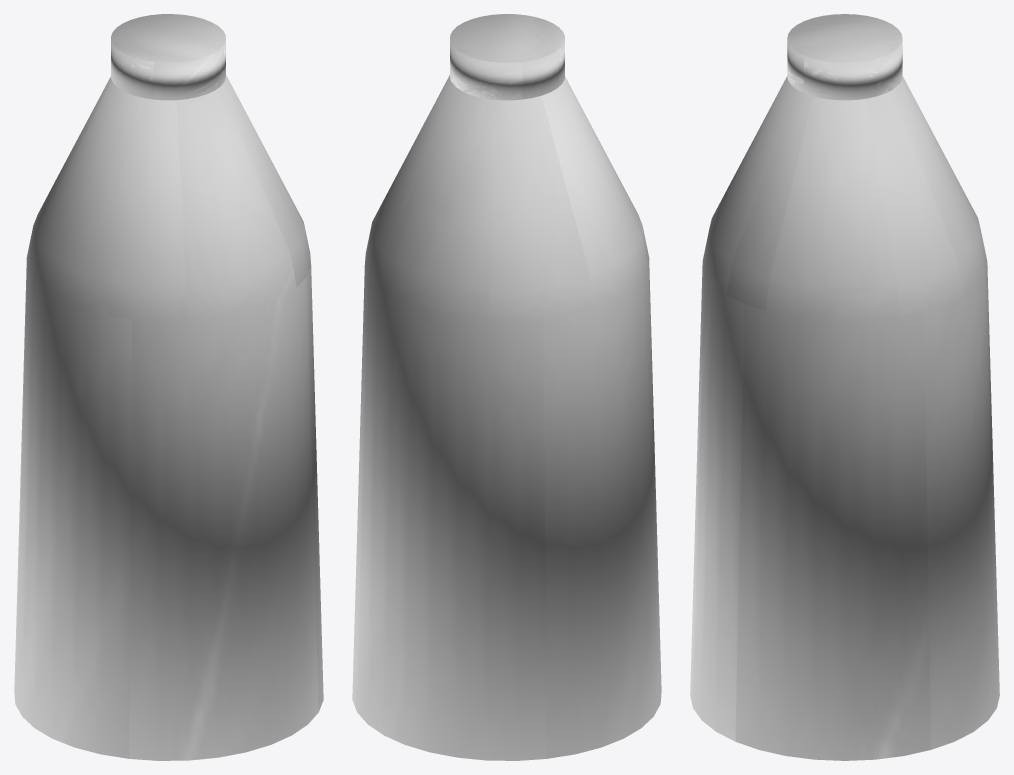
The model's file is waterbottle.fbx.
3 renders of one model, left to right at view 1: azimuth 30°, elevation 25°; view 2: azimuth 150°, elevation 25°; view 3: azimuth 270°, elevation 25°, orthographic.
Parts seen in each view (by area): view 1: Cylinder_001; view 2: Cylinder_001; view 3: Cylinder_001.
Part boxes in pixels (left/top/right/bottom): Cylinder_001: left=14, top=14, right=323, bottom=760; Cylinder_001: left=352, top=14, right=661, bottom=760; Cylinder_001: left=690, top=14, right=999, bottom=760.
Bounding box in the file's own units: 2 × 4.68 × 2.
